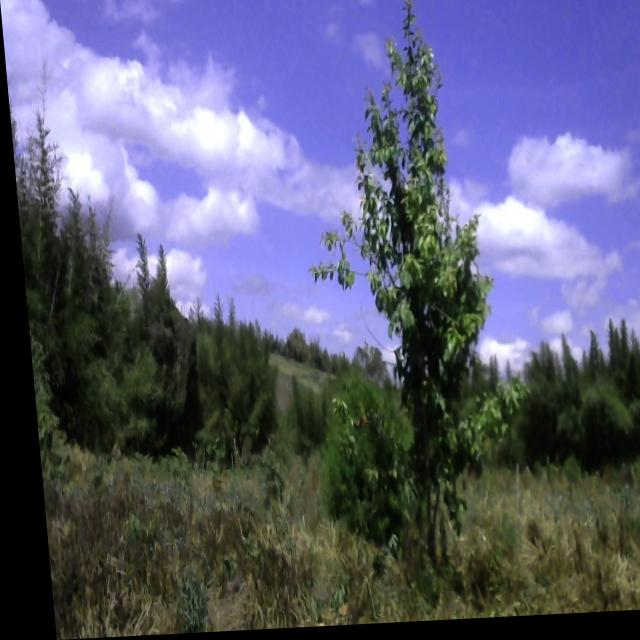Hass Avocado: (281, 0, 535, 576)
cedrus: (4, 48, 90, 317), (81, 169, 129, 336), (119, 224, 151, 347), (145, 245, 173, 349), (203, 287, 230, 375), (178, 287, 206, 365)
